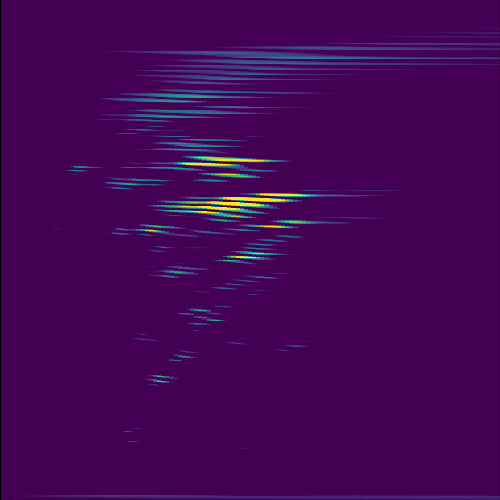semblance: (158, 189, 319, 221), (159, 154, 287, 179)
